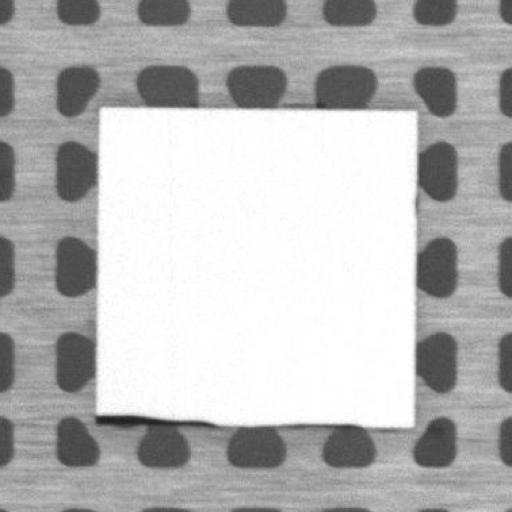DIE_BROKEN: (89, 406, 225, 430)
